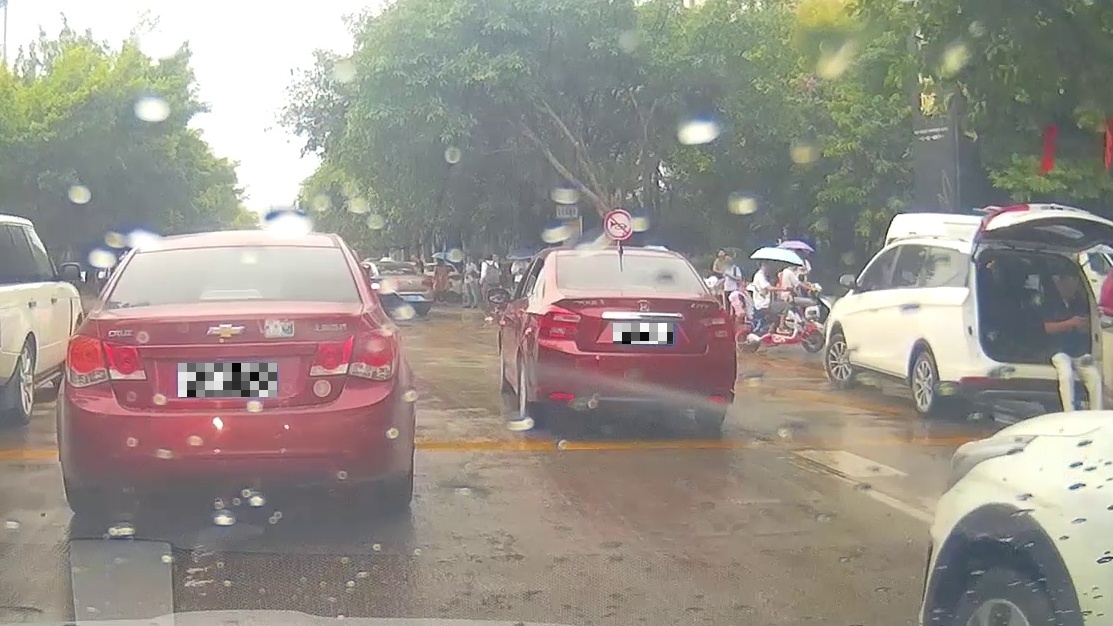L_light: (66, 334, 149, 388), (539, 312, 582, 340)
R_light: (308, 327, 398, 380), (700, 313, 735, 340)
T_light: (200, 288, 265, 300), (611, 284, 655, 291)
day-no: (56, 230, 414, 516), (536, 246, 736, 426)
plate_1: (178, 363, 277, 397)
plate_2: (613, 323, 673, 344)
